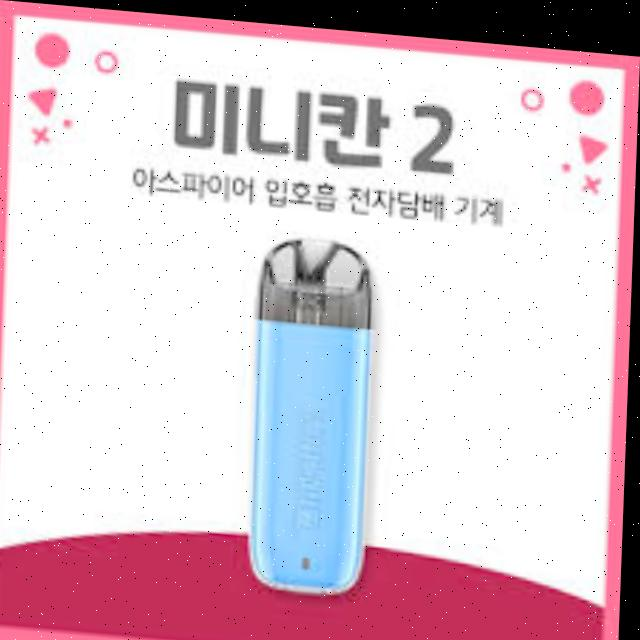vape: (252, 230, 376, 589)
